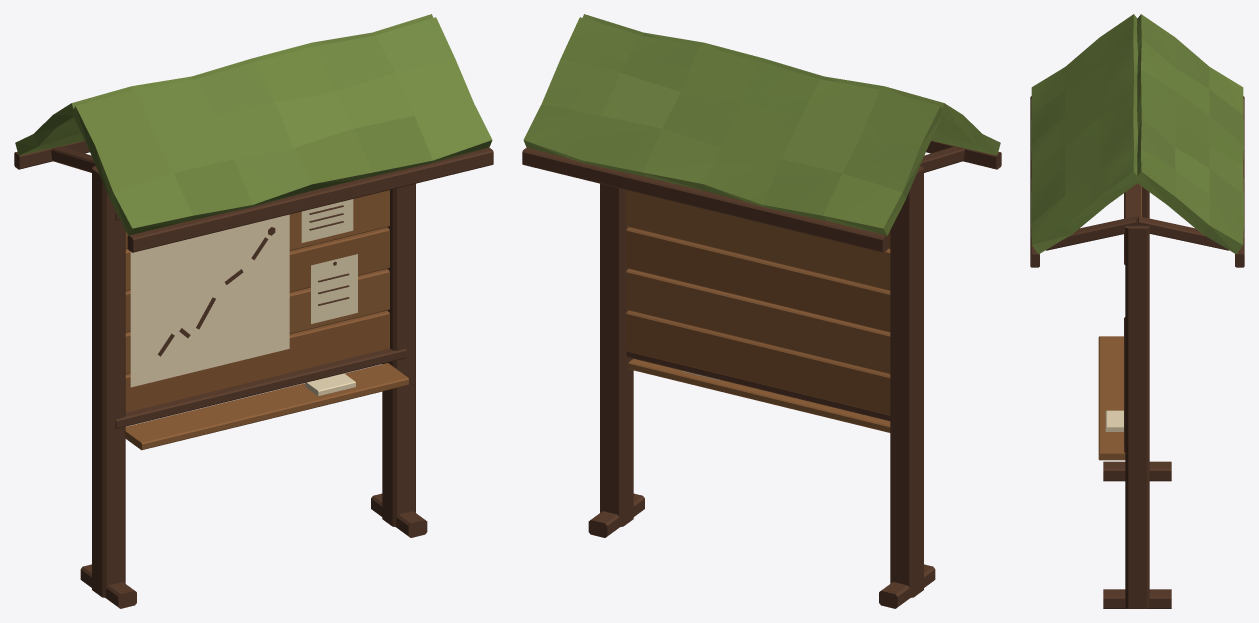
File: prop_trail_kiosk_a.glb
The picture shows the model from 3 angles, left to right: view 1: azimuth 30°, elevation 25°; view 2: azimuth 150°, elevation 25°; view 3: azimuth 270°, elevation 25°; orthographic projection. The views are drawn at different scales.
Parts seen in each view (by area): view 1: prop_trail_kiosk_a_mesh; view 2: prop_trail_kiosk_a_mesh; view 3: prop_trail_kiosk_a_mesh.
Boxes of the visible parts, x1,y1,x2,y2 form: prop_trail_kiosk_a_mesh: (14, 14, 493, 608); prop_trail_kiosk_a_mesh: (522, 14, 1001, 608); prop_trail_kiosk_a_mesh: (1030, 14, 1244, 608).
Size of the model in its own units: 1.54 by 2.04 by 0.88.
